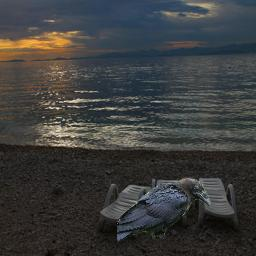Crow: (117, 177, 212, 242)
